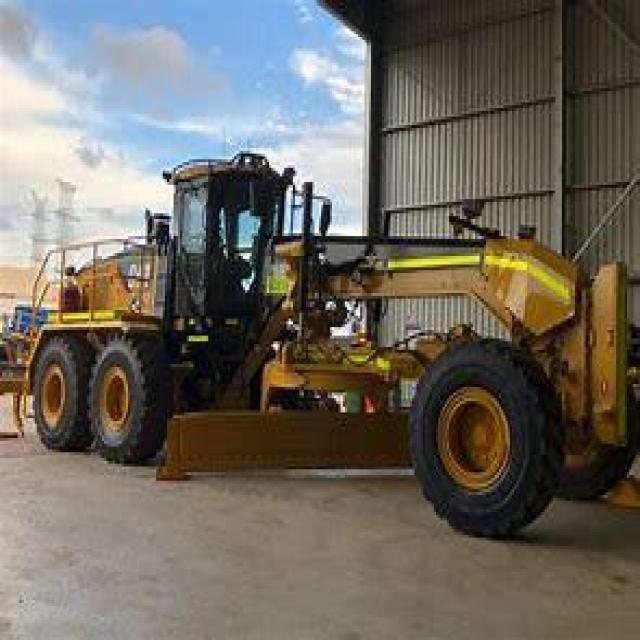Grader: (37, 131, 638, 535)
